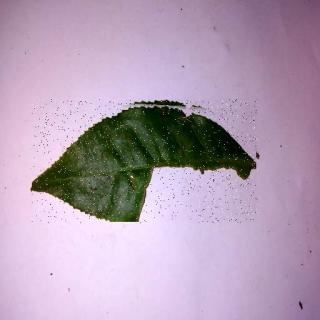Bird Eye Spot: (33, 101, 259, 225)
